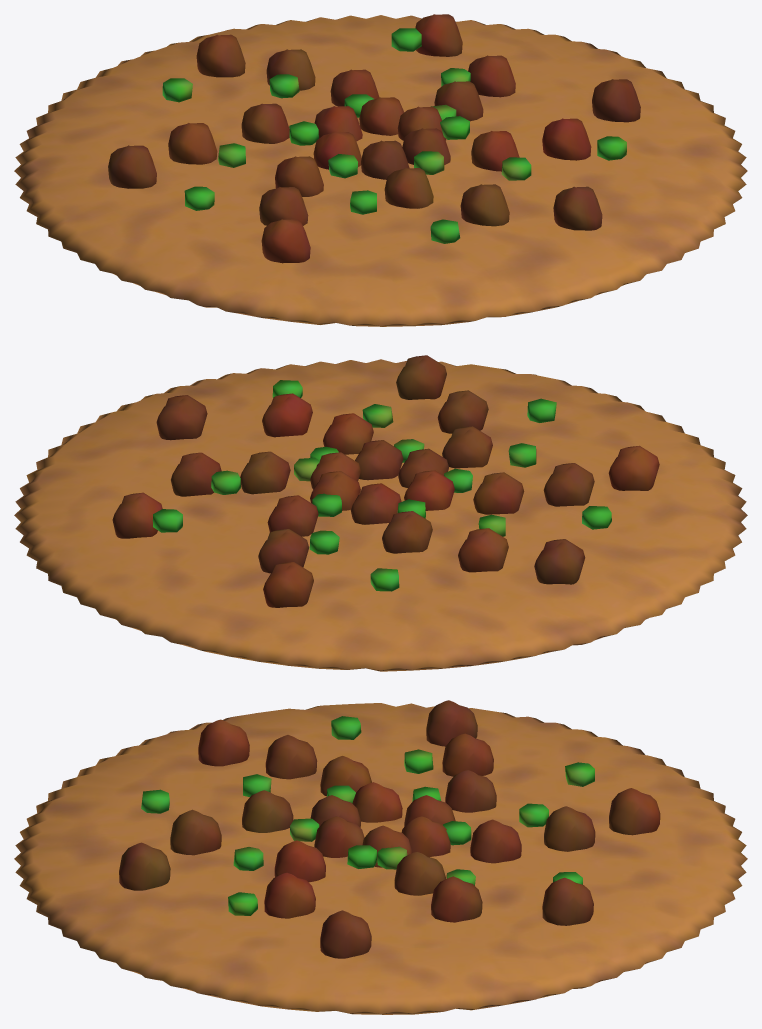
File: keema-masala-pizza-ultralight.glb
3 views of the same model, one above another, from view 1: azimuth 30°, elevation 25°; view 2: azimuth 150°, elevation 25°; view 3: azimuth 270°, elevation 25° (orthographic).
Visible parts, largest first — view 1: Mesh_Artisan_Pizza_Crust, Mesh_Spiced_Minced_Keema_Clusters, Mesh_Green_Chili_Ginger_And_Coriander; view 2: Mesh_Artisan_Pizza_Crust, Mesh_Spiced_Minced_Keema_Clusters, Mesh_Green_Chili_Ginger_And_Coriander; view 3: Mesh_Artisan_Pizza_Crust, Mesh_Spiced_Minced_Keema_Clusters, Mesh_Green_Chili_Ginger_And_Coriander.
Part boxes in pixels (<box>): Mesh_Artisan_Pizza_Crust: <box>14,15,747,326</box>; Mesh_Spiced_Minced_Keema_Clusters: <box>108,14,640,263</box>; Mesh_Green_Chili_Ginger_And_Coriander: <box>162,28,626,243</box>; Mesh_Artisan_Pizza_Crust: <box>14,359,747,671</box>; Mesh_Spiced_Minced_Keema_Clusters: <box>112,355,659,607</box>; Mesh_Green_Chili_Ginger_And_Coriander: <box>152,380,611,591</box>; Mesh_Artisan_Pizza_Crust: <box>14,703,747,1014</box>; Mesh_Spiced_Minced_Keema_Clusters: <box>119,700,660,958</box>; Mesh_Green_Chili_Ginger_And_Coriander: <box>141,716,594,915</box>.
Size of the model in its own units: 2.4 by 0.2809 by 2.4.
Materials: 4 (4 with a texture image).
